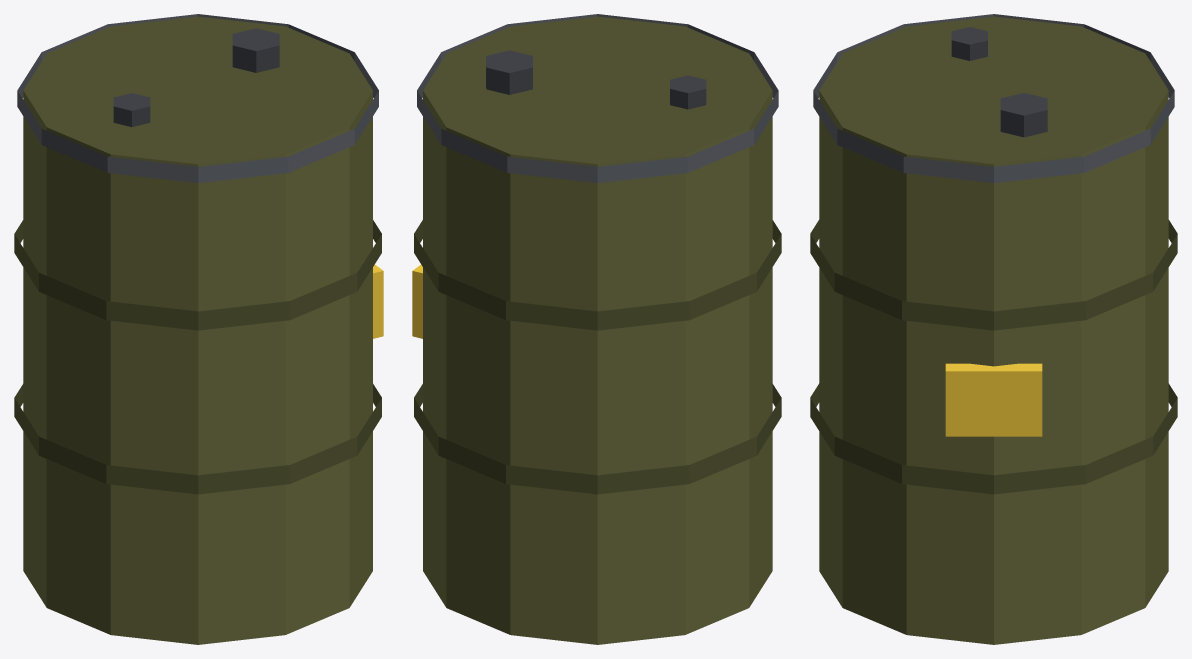
The model's file is fuel_barrel.glb.
3 views of the same model, side by side, from view 1: azimuth 30°, elevation 25°; view 2: azimuth 150°, elevation 25°; view 3: azimuth 270°, elevation 25° (orthographic).
Visible parts, largest first — view 1: LOD0; view 2: LOD0; view 3: LOD0.
Boxes of the visible parts, x1,y1,x2,y2 form: LOD0: [14, 14, 383, 644]; LOD0: [412, 14, 781, 644]; LOD0: [810, 14, 1177, 644].
Bounding box in the file's own units: 0.614 × 0.92 × 0.61.
Materials: 1 (1 with a texture image).
